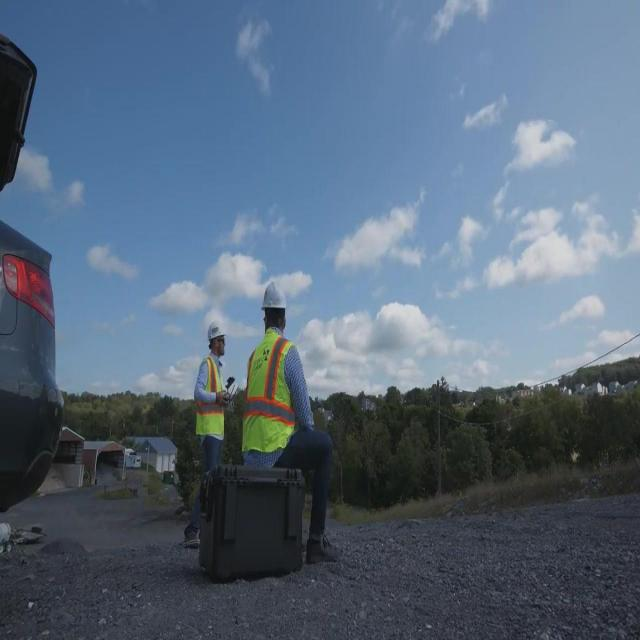Reflective-Jacket: (237, 331, 314, 458), (185, 353, 233, 453)
Safety-Helmet: (255, 273, 293, 328), (202, 312, 230, 354)
